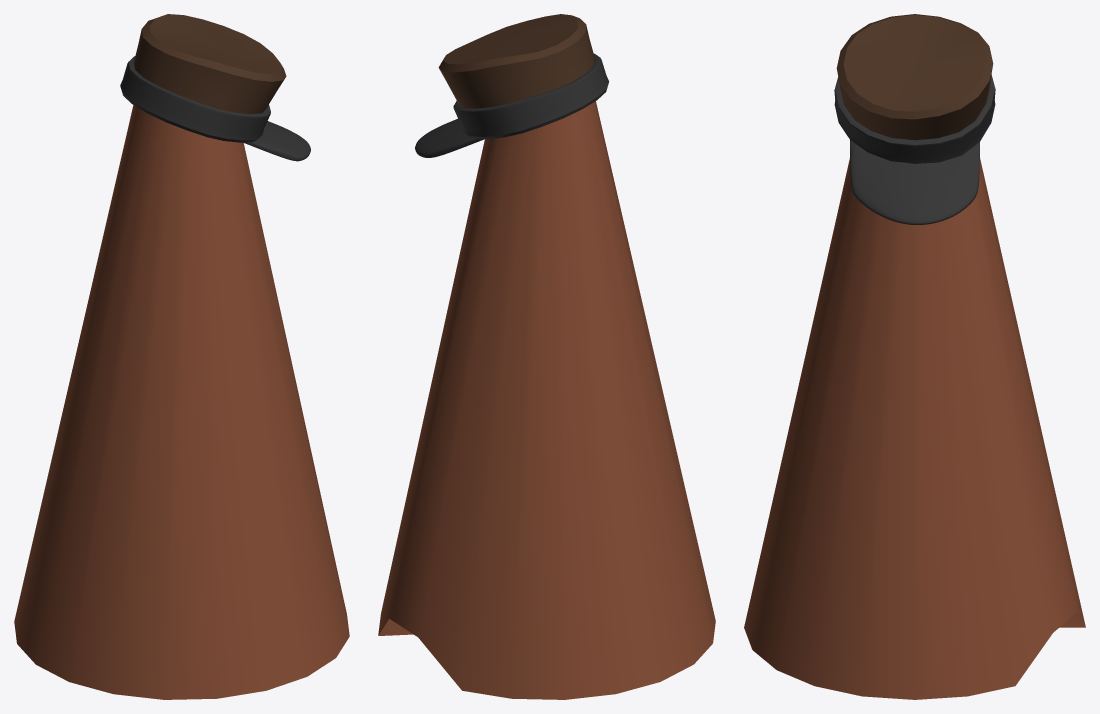
File: CourierPawn.fbx
3 views of the same model, side by side, from view 1: azimuth 30°, elevation 25°; view 2: azimuth 150°, elevation 25°; view 3: azimuth 270°, elevation 25° (orthographic).
Visible parts, largest first — view 1: Pawn; view 2: Pawn; view 3: Pawn.
Boxes of the visible parts, box(x1,y1,x2,y2) form: Pawn: box(14, 14, 349, 699); Pawn: box(378, 14, 715, 699); Pawn: box(744, 14, 1085, 699).
Size of the model in its own units: 22.06 by 42.82 by 22.06.
